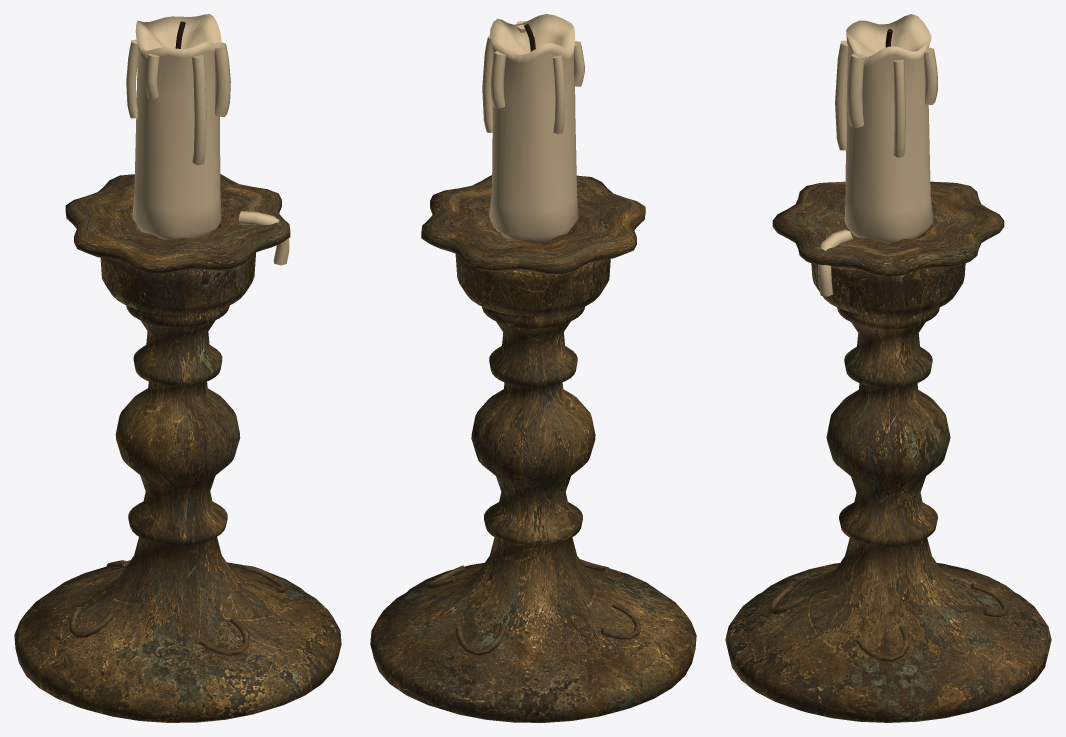
File: vanity_candlestick.glb
The picture shows the model from 3 angles, left to right: view 1: azimuth 30°, elevation 25°; view 2: azimuth 150°, elevation 25°; view 3: azimuth 270°, elevation 25°; orthographic projection.
Visible parts, largest first — view 1: VanityCandlestick_BronzeHolder, VanityCandlestick_Candle, VanityCandlestick_ScallopedCup, VanityCandlestick_WaxDrips, VanityCandlestick_BaseScrolls; view 2: VanityCandlestick_BronzeHolder, VanityCandlestick_Candle, VanityCandlestick_ScallopedCup, VanityCandlestick_WaxDrips, VanityCandlestick_BaseScrolls; view 3: VanityCandlestick_BronzeHolder, VanityCandlestick_Candle, VanityCandlestick_ScallopedCup, VanityCandlestick_WaxDrips, VanityCandlestick_BaseScrolls.
Boxes of the visible parts, x1,y1,x2,y2 form: VanityCandlestick_BronzeHolder: (14,210,341,722); VanityCandlestick_Candle: (132,14,221,239); VanityCandlestick_ScallopedCup: (65,174,290,273); VanityCandlestick_WaxDrips: (126,39,289,265); VanityCandlestick_BaseScrolls: (69,560,286,656); VanityCandlestick_BronzeHolder: (370,214,696,722); VanityCandlestick_Candle: (489,14,578,241); VanityCandlestick_ScallopedCup: (421,175,645,274); VanityCandlestick_WaxDrips: (482,21,584,134); VanityCandlestick_BaseScrolls: (426,559,640,655); VanityCandlestick_BronzeHolder: (725,230,1051,722); VanityCandlestick_Candle: (844,14,933,242); VanityCandlestick_ScallopedCup: (772,181,1004,277); VanityCandlestick_WaxDrips: (818,40,937,296); VanityCandlestick_BaseScrolls: (768,583,1008,661).
Size of the model in its own units: 0.184 by 0.3945 by 0.184.
3 materials, 1 textured.
